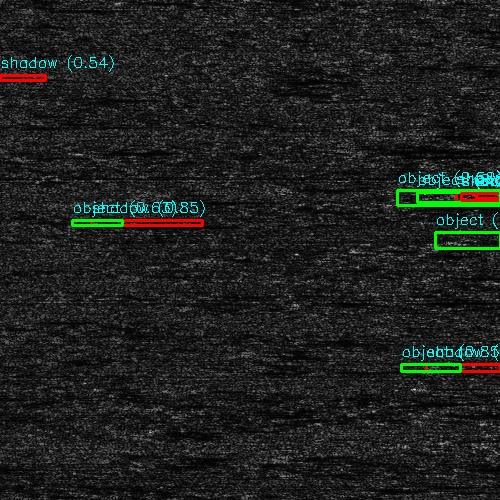rock: (424, 192, 497, 203), (423, 362, 434, 373)
shadow: (429, 362, 500, 373), (461, 192, 500, 203)
